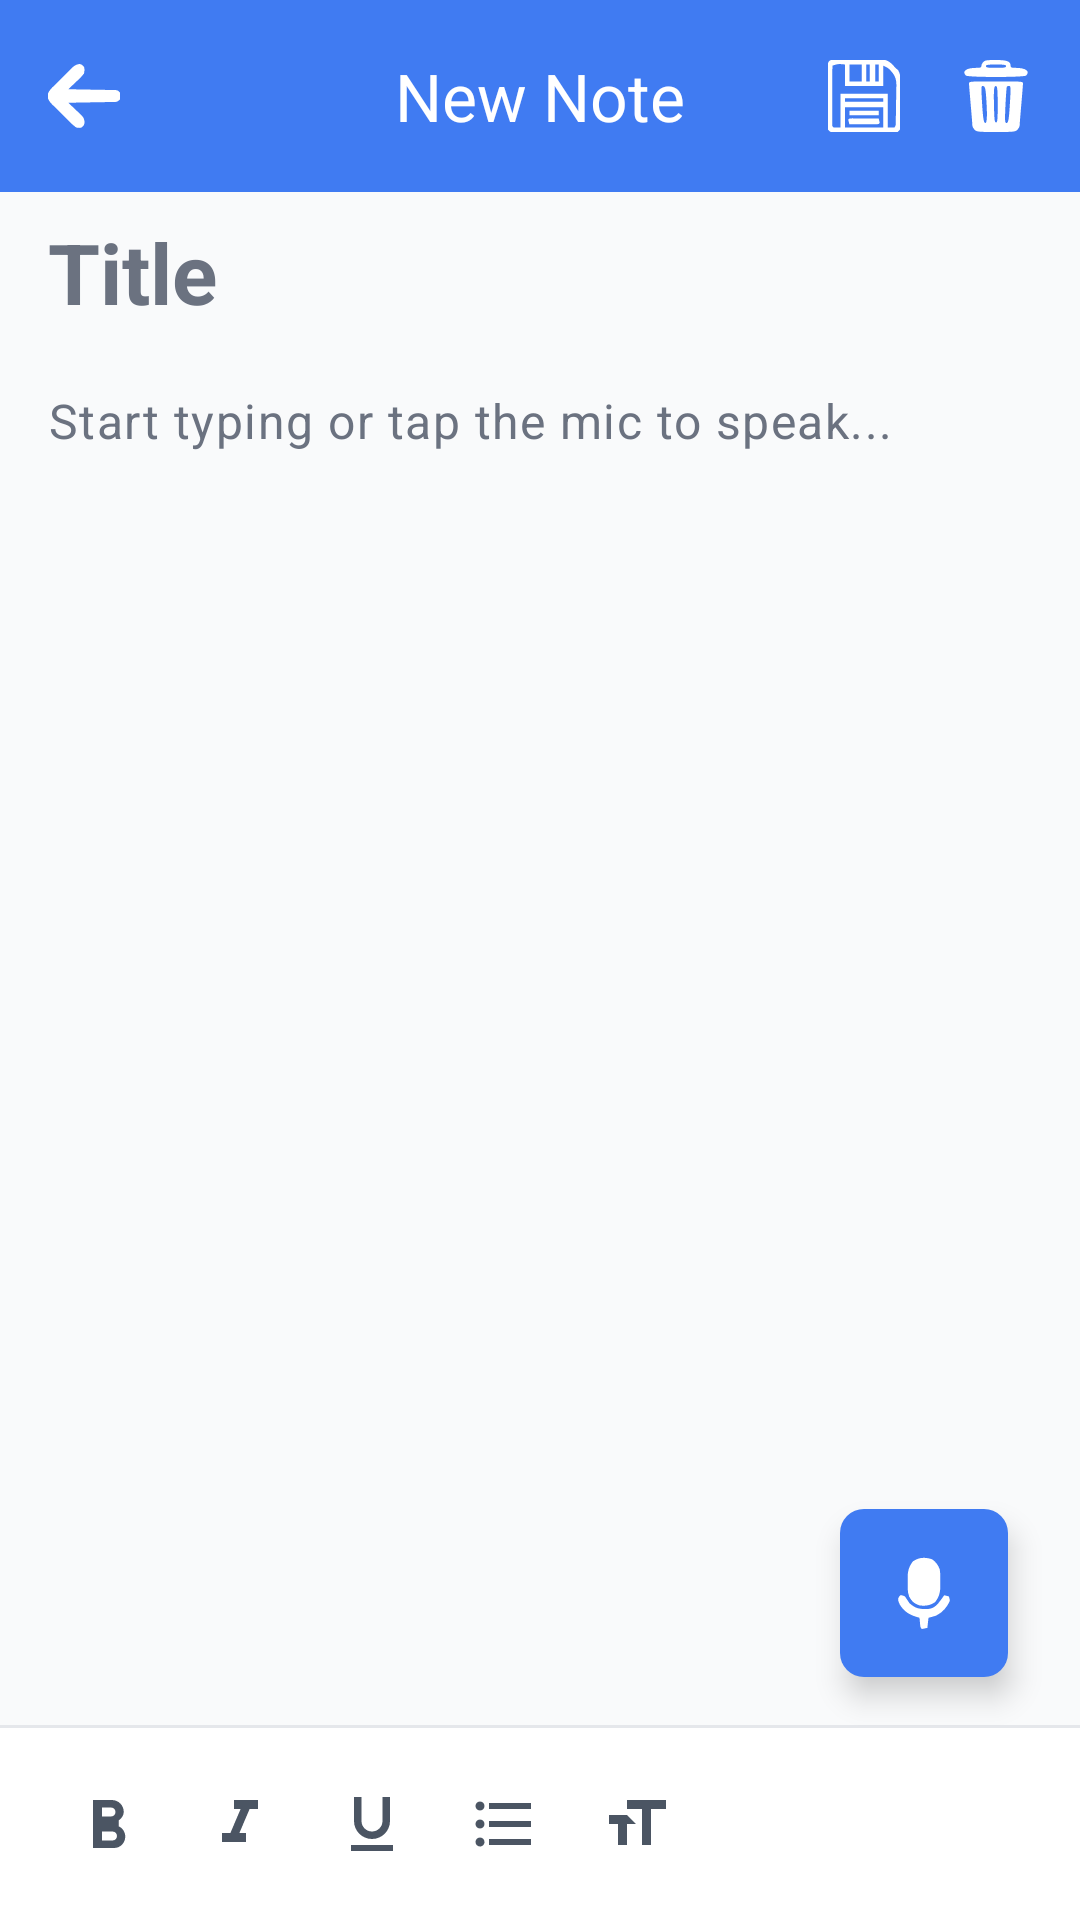

Screen size 1080px x 1920px. Icon name, then its center in pixels as point (x, y):
Bold: point (109, 1824)
Bullet list: point (503, 1824)
Delete Note: point (996, 96)
Font size: point (637, 1822)
Italic: point (240, 1821)
Save Note: point (864, 96)
Toggle Microphone: point (924, 1593)
Underline: point (372, 1824)
